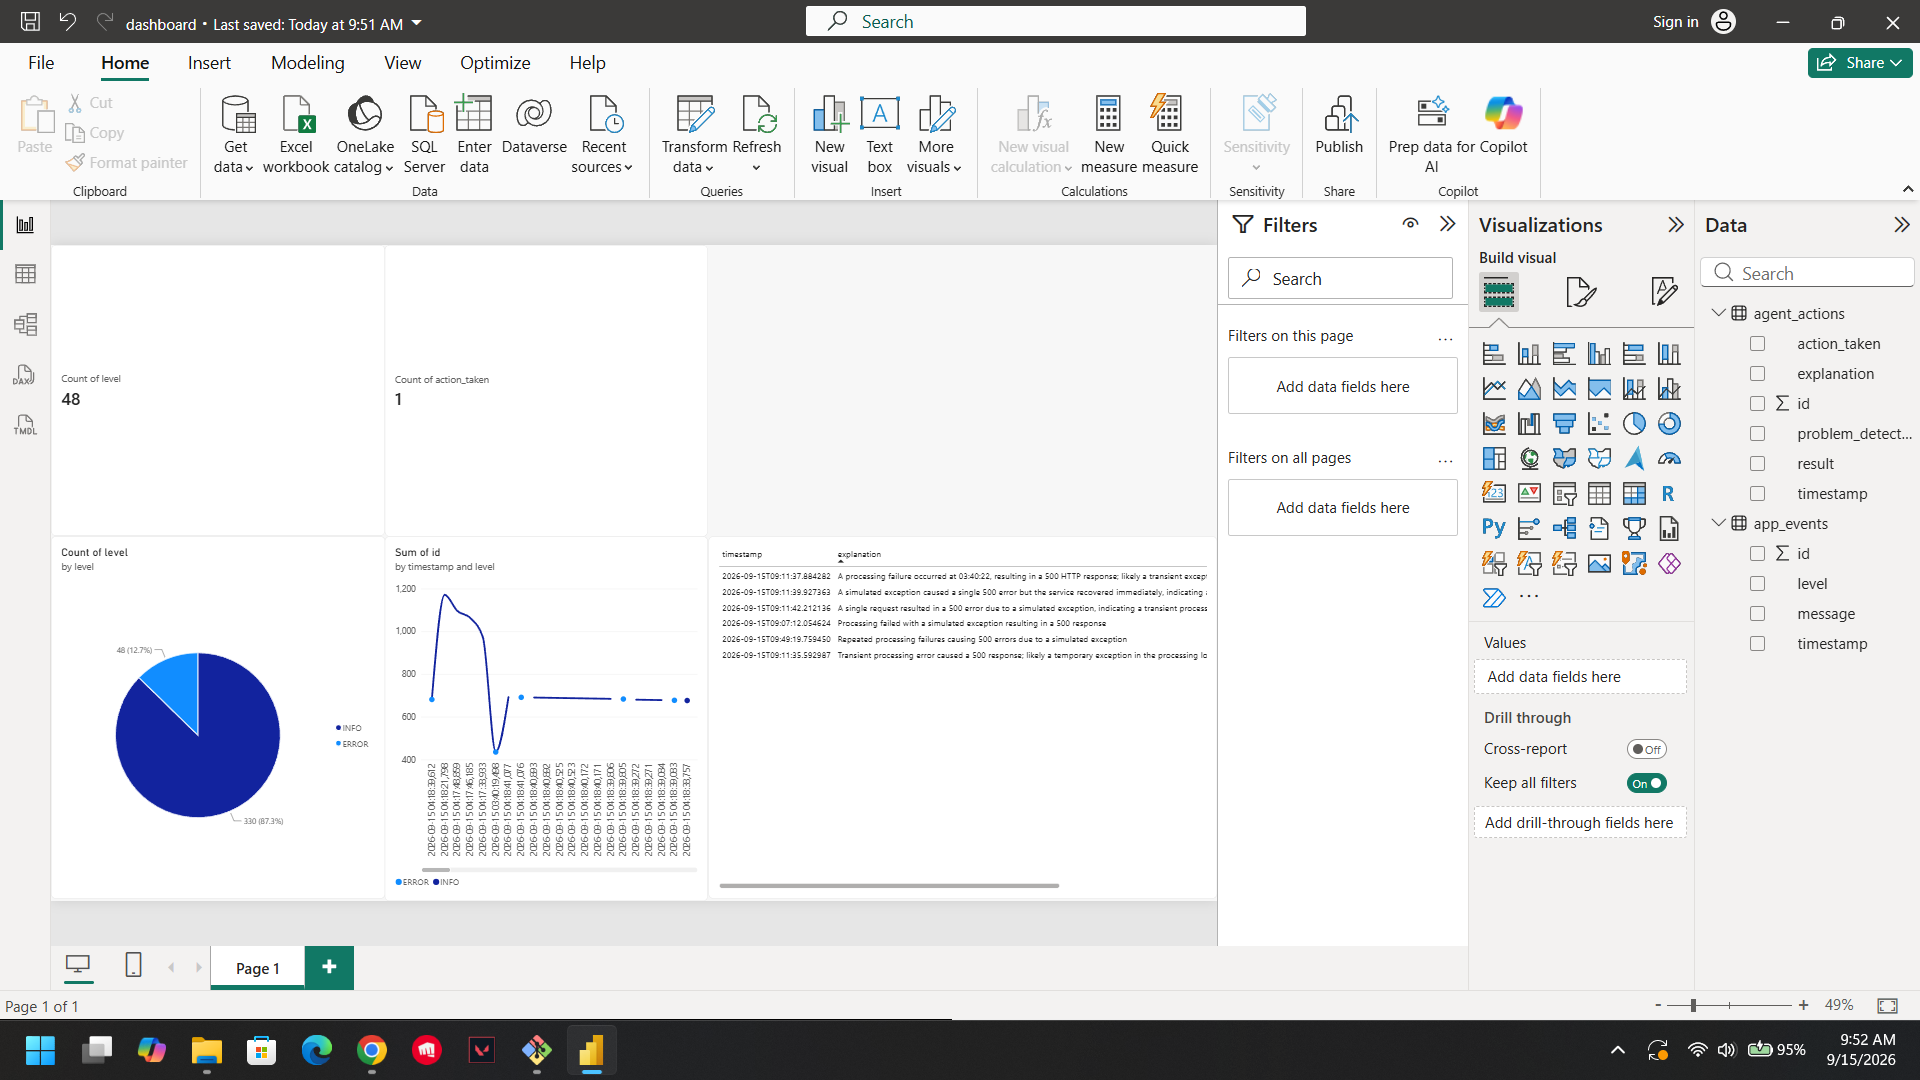

The page's visual inventory and layout, read from the dashboard file:
{"tool":"powerbi","page":{"name":"Page 1","canvas":[1920,1080],"ordinal":0},"visuals":[{"type":"pieChart","fields":{"Category":["app_events.level"],"Y":["CountNonNull(app_events.level)"]},"box":[0,479.6,550.1,597.2],"z":0},{"type":"lineChart","fields":{"Category":["app_events.timestamp"],"Series":["app_events.level"],"Y":["Sum(app_events.id)"]},"box":[550.1,479.6,532,600.8],"z":1000},{"type":"tableEx","fields":{"Values":["agent_actions.timestamp","agent_actions.explanation","agent_actions.action_taken","agent_actions.result"]},"box":[1082.2,479.6,837.9,597.2],"z":2000},{"type":"cardVisual","fields":{"Data":["CountNonNull(app_events.level)"]},"box":[0,0,550.1,479.6],"z":3000},{"type":"cardVisual","fields":{"Data":["CountNonNull(agent_actions.action_taken)"]},"box":[550,0,532,480],"z":3001}]}

Visuals, with their boxes on the page's 1920x1080 design canvas (x1, y1, x2, y2). These are canvas units, not pixel positions in the 1920x1080 screenshot, which may show the page scaled, cropped or inside an application window:
pieChart - app_events.level x CountNonNull(app_events.level): pyautogui.locateOnScreen(0, 480, 550, 1077)
lineChart - app_events.timestamp x app_events.level: pyautogui.locateOnScreen(550, 480, 1082, 1080)
tableEx - agent_actions.timestamp x agent_actions.explanation: pyautogui.locateOnScreen(1082, 480, 1920, 1077)
cardVisual - CountNonNull(app_events.level): pyautogui.locateOnScreen(0, 0, 550, 480)
cardVisual - CountNonNull(agent_actions.action_taken): pyautogui.locateOnScreen(550, 0, 1082, 480)
